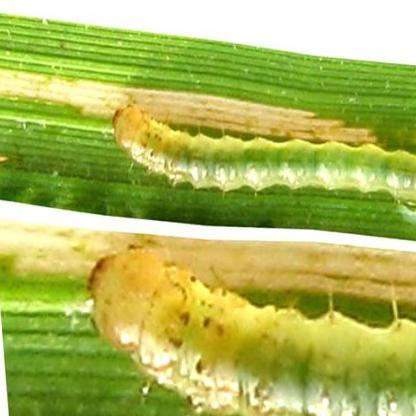leaf-folder: (68, 235, 416, 416), (108, 79, 416, 220)
